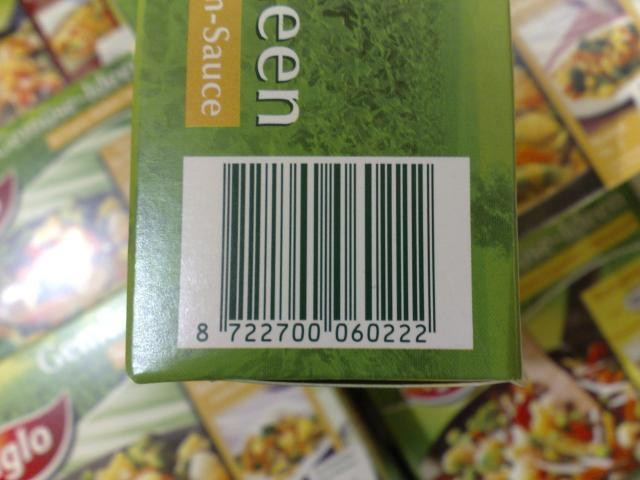Barcode: (178, 155, 474, 350)
